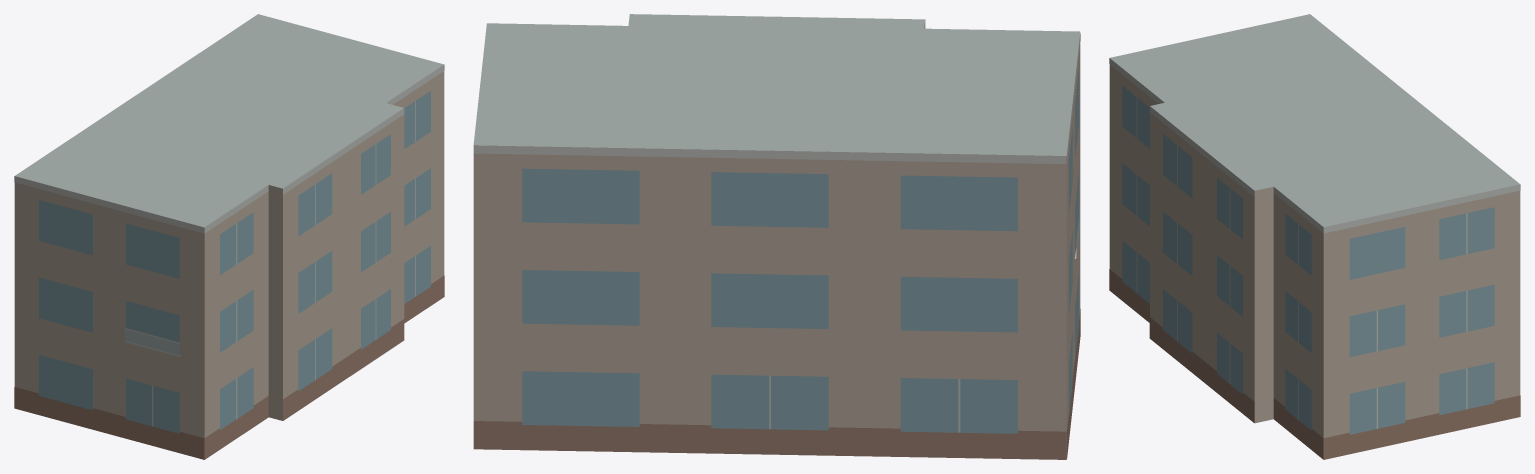
The model's file is survey-upis-32707313.glb.
3 views of the same model, side by side, from view 1: azimuth 30°, elevation 25°; view 2: azimuth 150°, elevation 25°; view 3: azimuth 270°, elevation 25° (orthographic). The views are drawn at different scales.
Visible parts, largest first — view 1: survey-upis-32707313.tmp; view 2: survey-upis-32707313.tmp; view 3: survey-upis-32707313.tmp.
Part boxes in pixels (x1=…): survey-upis-32707313.tmp: x1=14, y1=14, x2=444, y2=459; survey-upis-32707313.tmp: x1=473, y1=14, x2=1080, y2=459; survey-upis-32707313.tmp: x1=1109, y1=14, x2=1520, y2=459.
Size of the model in its own units: 18.01 by 9.15 by 14.66.
